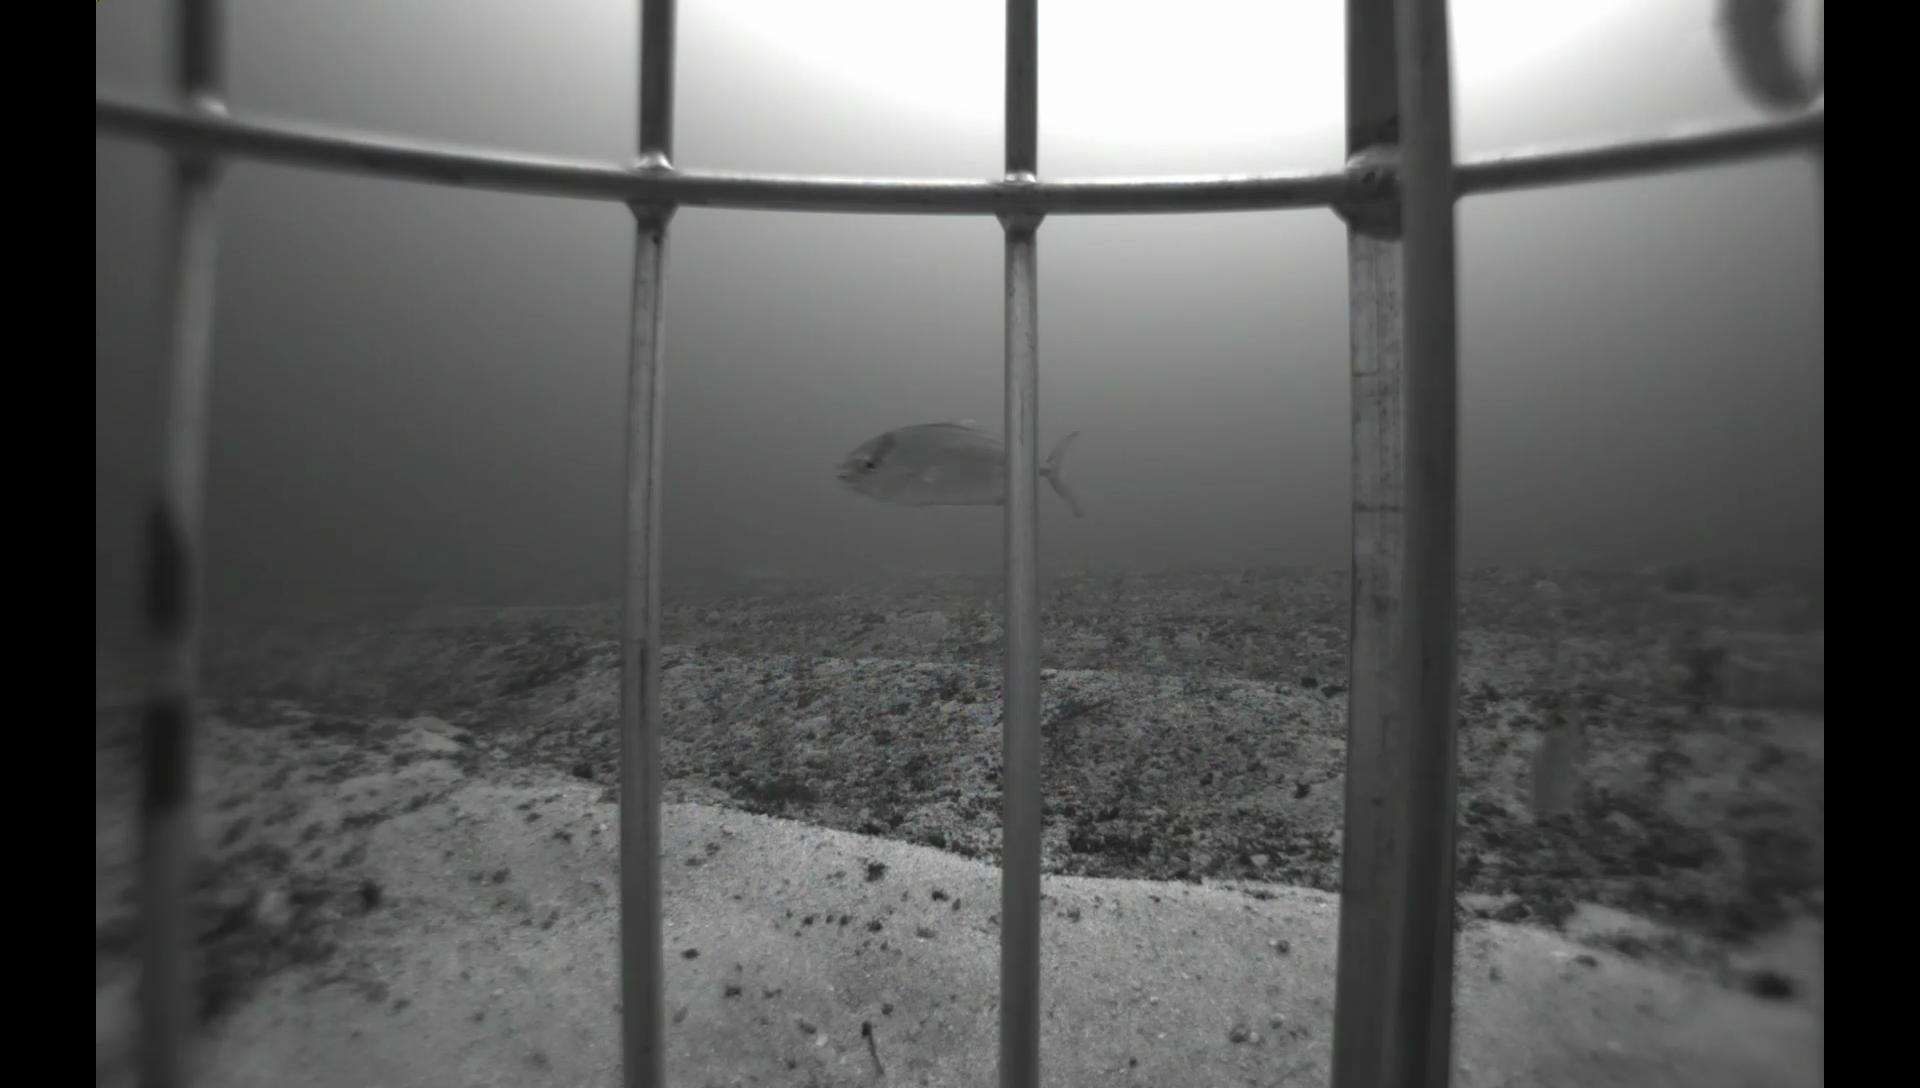CALAMUSPRORIDENS-170210605: (1509, 688, 1610, 837)
RHOMBOPLITESAURORUBENS-170152001: (1706, 1, 1824, 179)
SERIOLAFASCIATA-170113103: (828, 410, 1093, 524)
